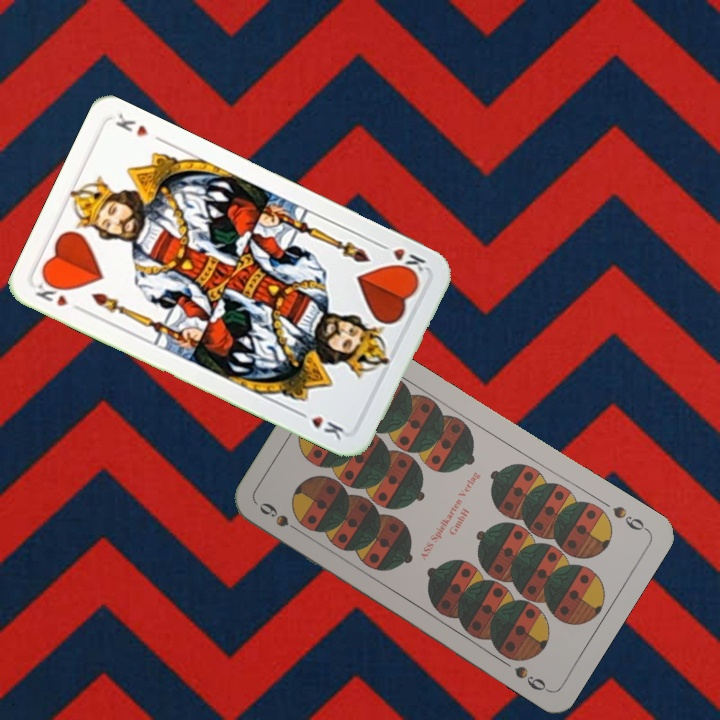HK: (373, 238, 428, 279), (31, 275, 87, 315)
S9: (255, 498, 307, 538), (608, 501, 651, 534)
